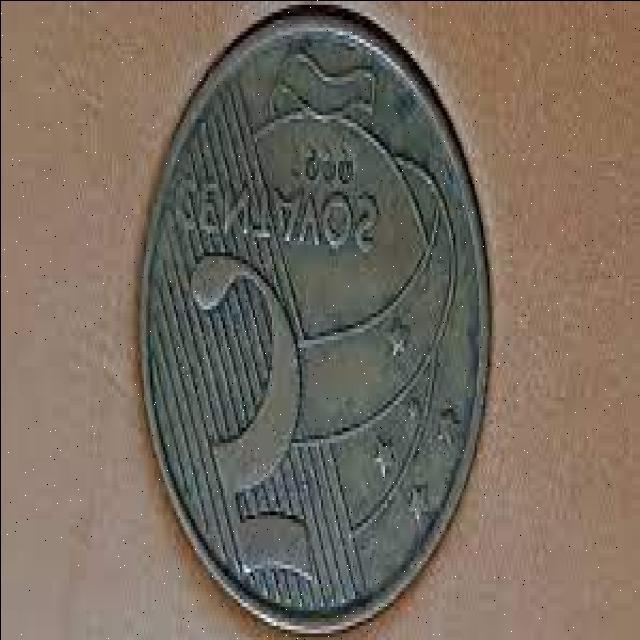5 cent: (146, 30, 480, 630)
